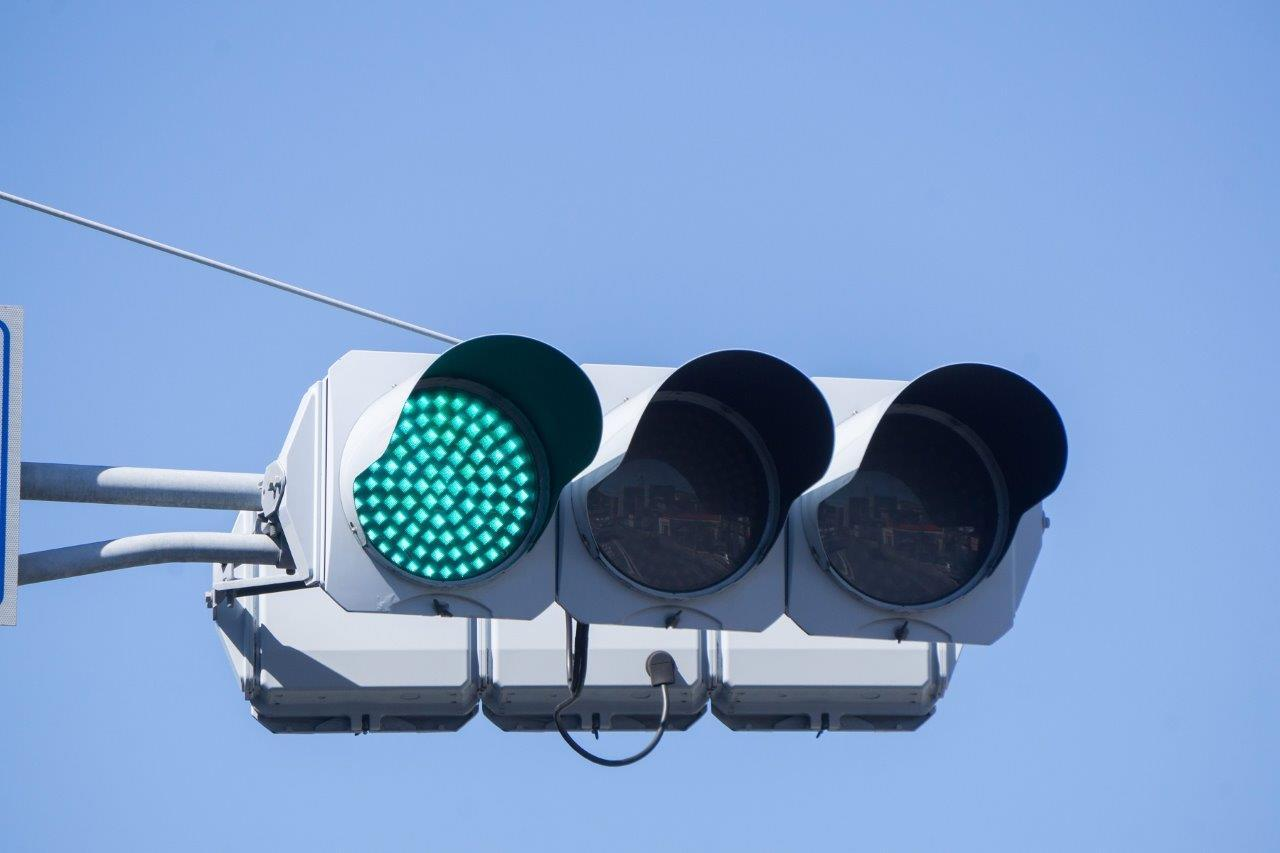cars: (301, 342, 1075, 631)
